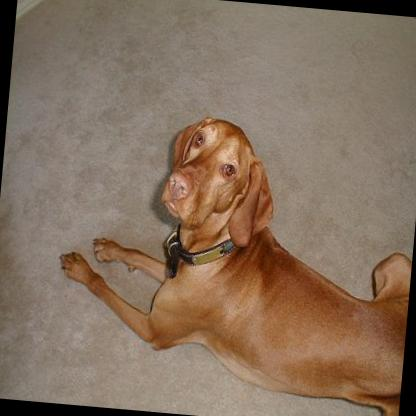vizsla: (46, 103, 416, 416)
